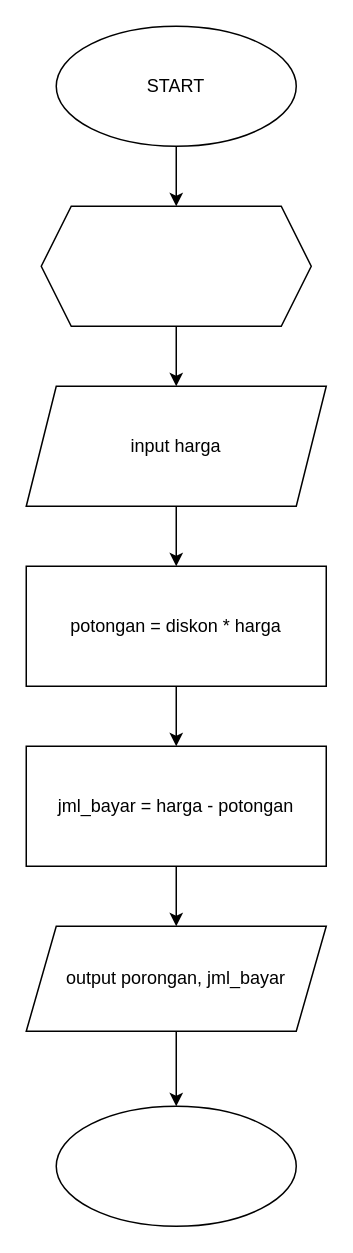
Some shapes in this 353 by 1253 pixel diagram are drawn without their labels. The shapes that lost their labels are listed below. From the top down, each one's centre as x and y in pixels, then its label:
At pixel 175 265: "int harga, doble potongan, double jml_bayar, double diskon = 0.15".
At pixel 175 1165: "END".
